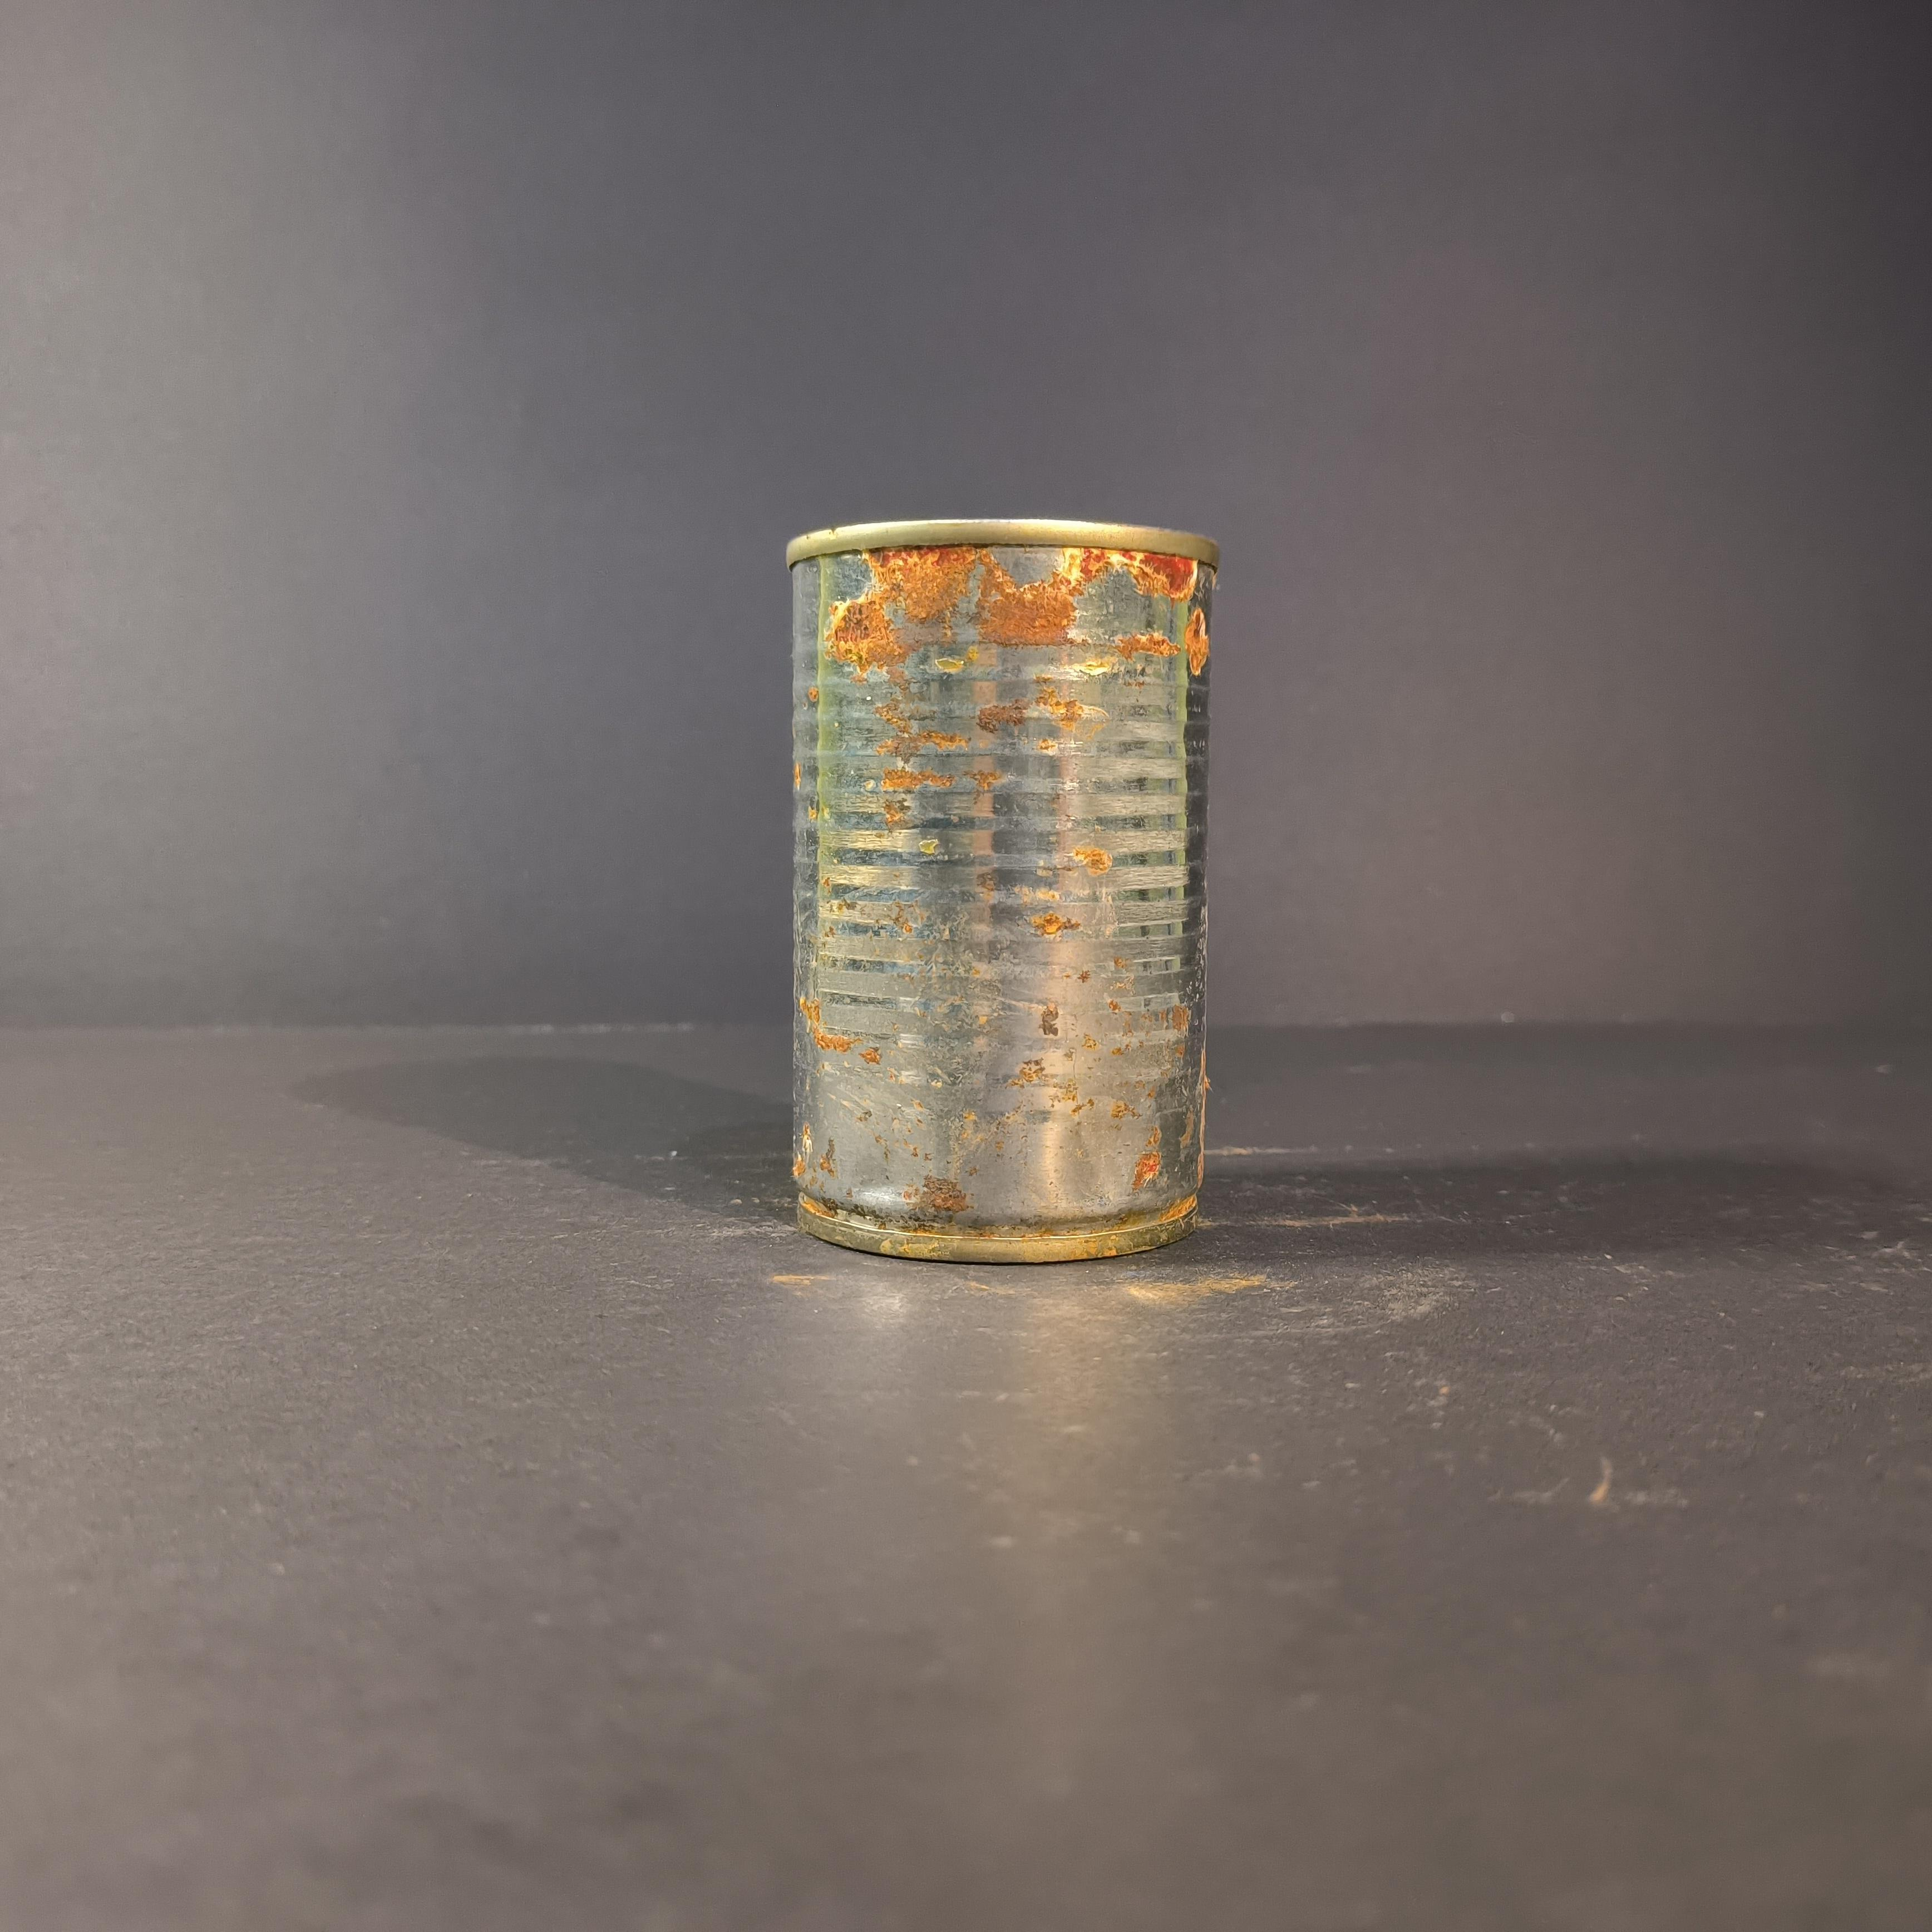Rusted: (773, 495, 1233, 1267)
